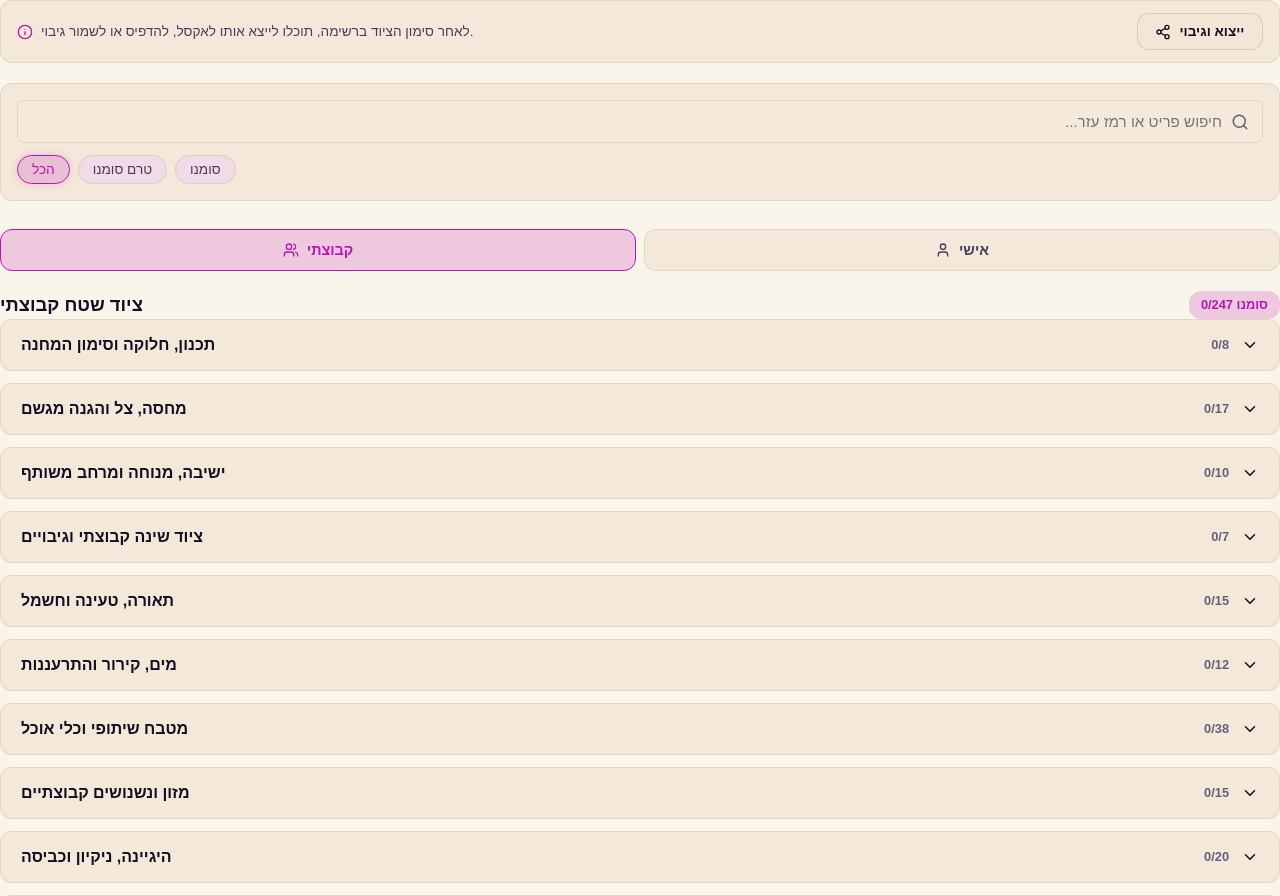
Scenario: EquipmentChecklist › filters items based on search query matching item label or hint
Note: Type a query that matches specific items but not topic headings
Type "שלט זיהוי" into the field with placeholder "חיפוש פריט או רמז עזר..." at (640, 122), box [17, 100, 1263, 143]
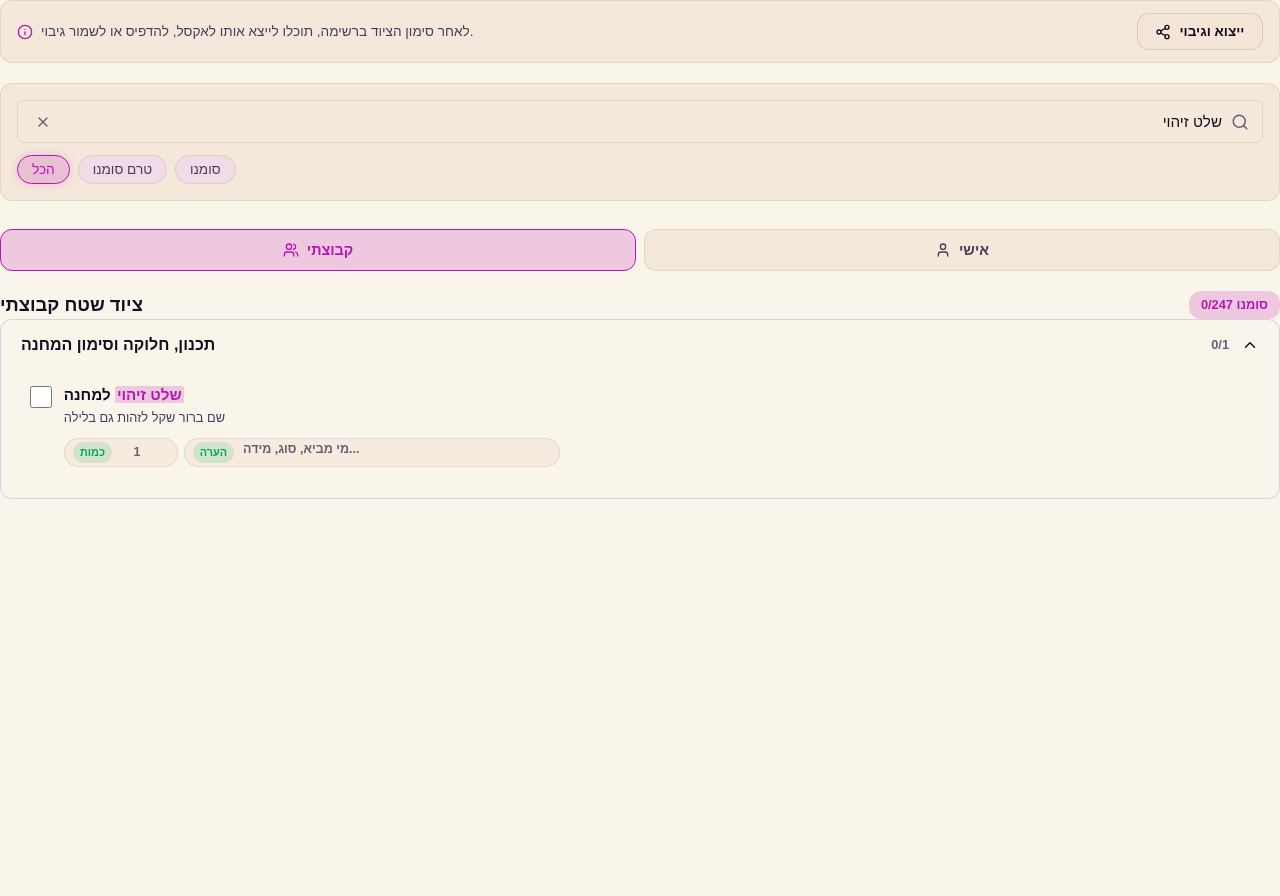
Check: the element showing "שלט זיהוי למחנה" is shown, box [64, 386, 184, 403]
